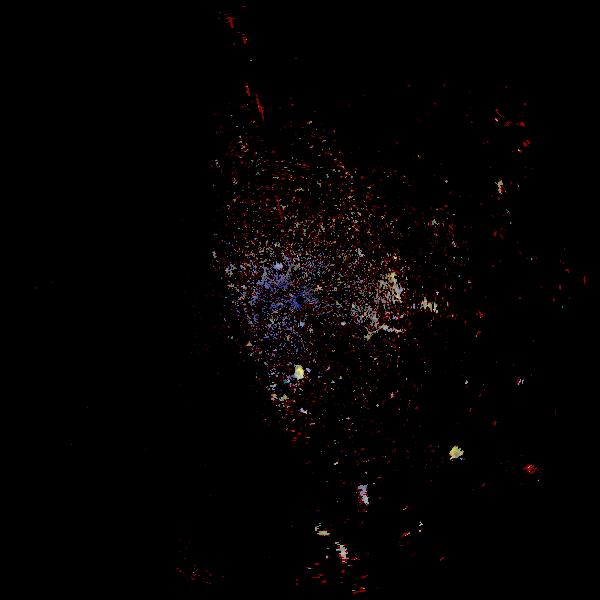roost: (447, 445, 468, 466), (291, 365, 309, 383)
